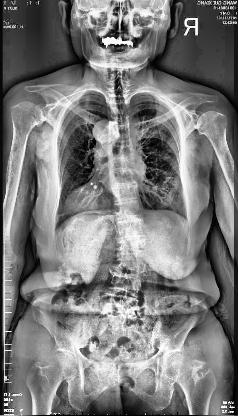Vertebrae: (112, 199, 144, 223), (111, 263, 148, 281), (110, 182, 140, 203), (119, 232, 151, 250), (106, 276, 142, 292), (119, 218, 151, 235), (114, 250, 150, 264), (108, 156, 138, 172), (108, 170, 138, 186), (108, 123, 136, 137), (107, 144, 135, 158), (106, 85, 132, 97), (107, 92, 131, 104), (108, 112, 132, 124), (110, 134, 134, 146), (108, 102, 130, 115)
